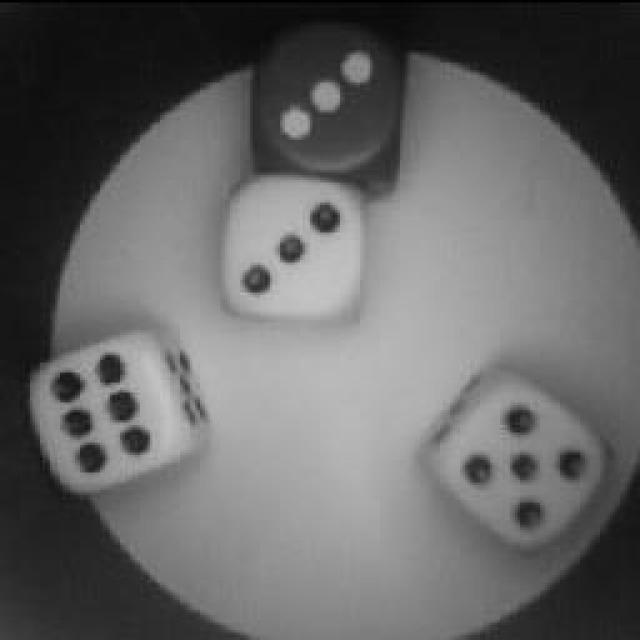dice_3: (248, 18, 412, 188), (220, 170, 370, 328)
dice_5: (430, 383, 612, 555)
dice_6: (27, 338, 195, 490)
